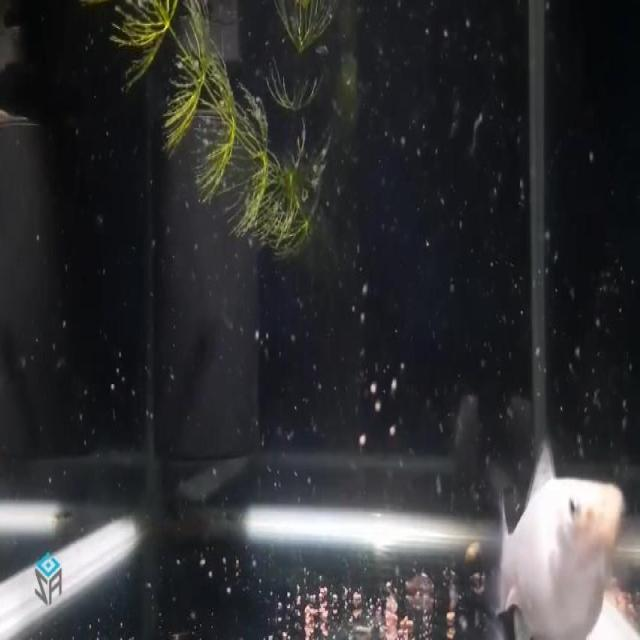PlatyFish: (474, 433, 631, 640)
